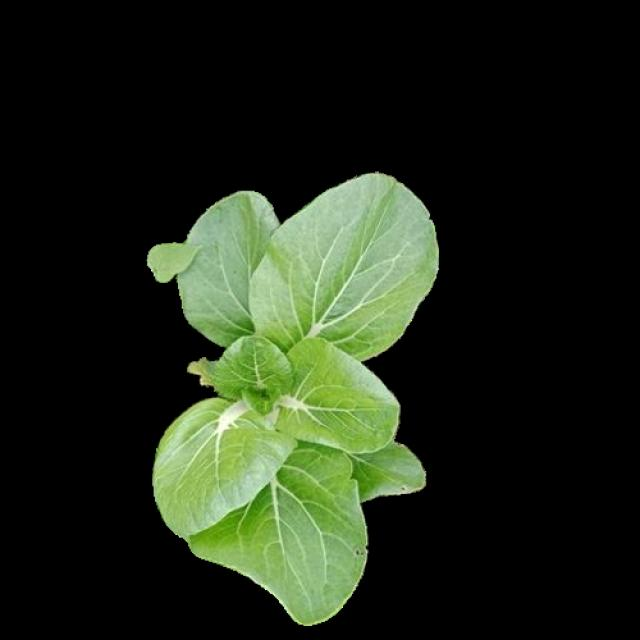healthy: (152, 172, 434, 620)
mature: (155, 174, 436, 622)
